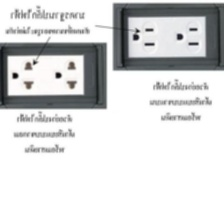three_eye_plug: (0, 41, 108, 111), (113, 2, 223, 70)
